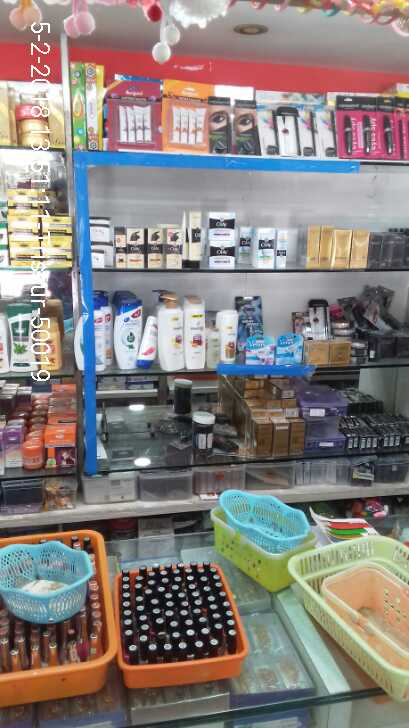venus: (249, 335, 277, 362), (277, 335, 301, 362)
